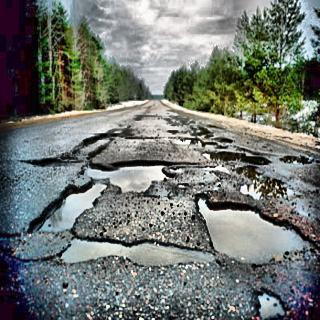pothole: (35, 115, 307, 274), (251, 285, 286, 320)
